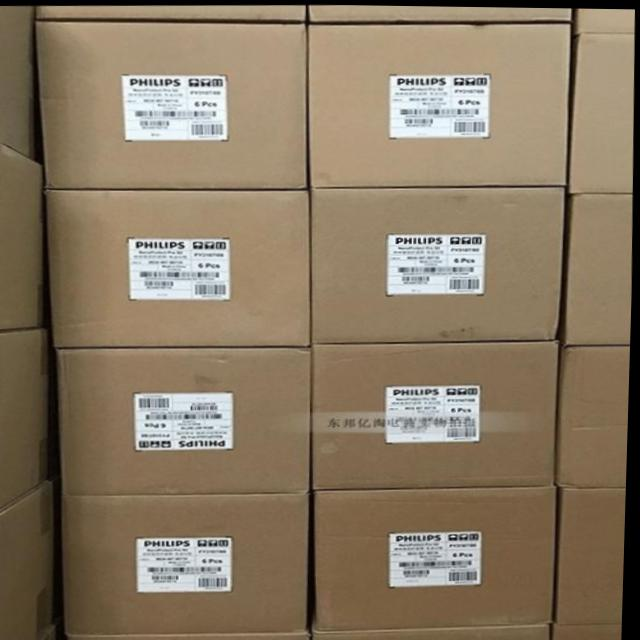box: (34, 20, 307, 188), (309, 21, 569, 187), (46, 188, 314, 348), (314, 184, 567, 342), (59, 346, 314, 495), (316, 339, 561, 488), (63, 491, 313, 634), (318, 484, 561, 630), (0, 326, 63, 508), (0, 474, 66, 640), (569, 31, 634, 191), (560, 344, 632, 485), (567, 191, 633, 342), (0, 143, 53, 331), (558, 486, 629, 622), (0, 5, 42, 163), (309, 4, 572, 21), (317, 622, 554, 640), (35, 4, 307, 19), (72, 631, 312, 640), (572, 7, 634, 33), (557, 622, 626, 640)
